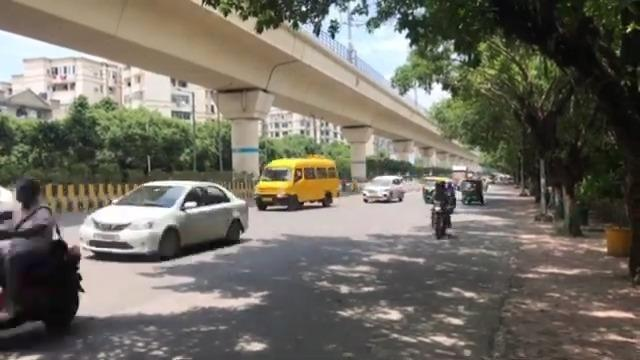Bike: (428, 181, 455, 239)
Car: (78, 179, 249, 260)
